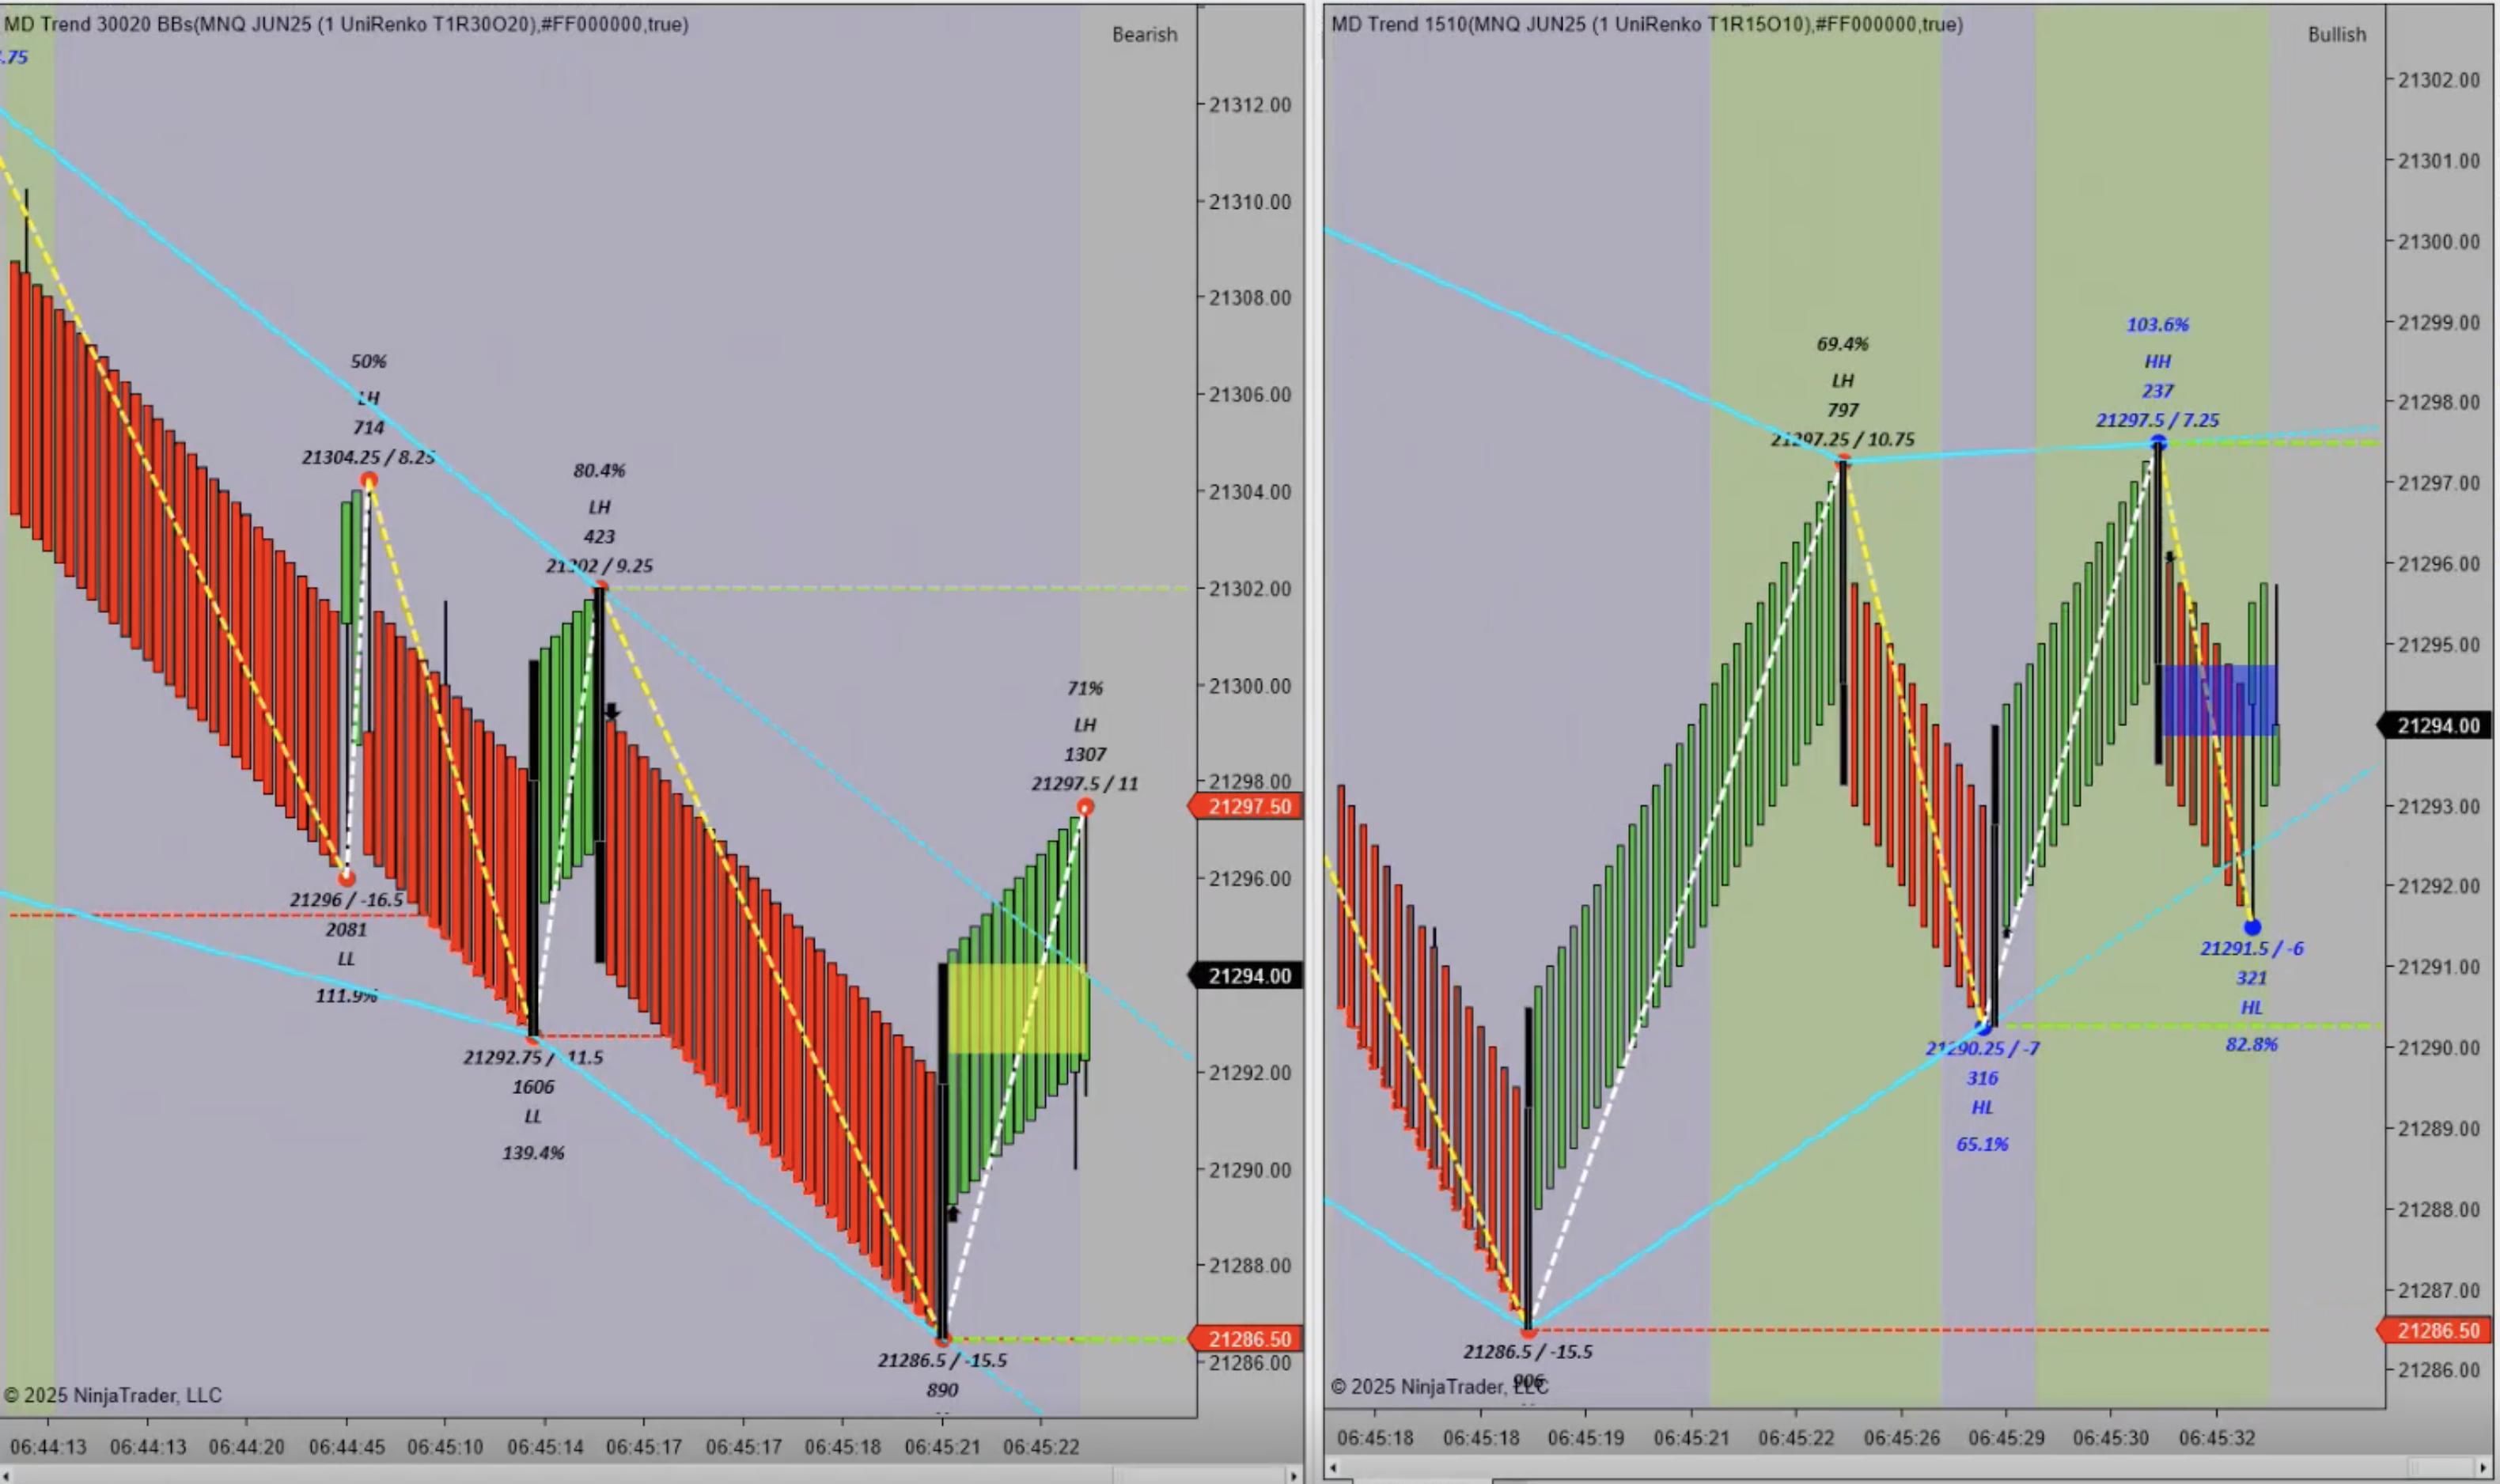candle: (933, 963, 958, 1346), (592, 585, 613, 979), (2150, 440, 2173, 776), (1519, 1007, 1541, 1329), (525, 659, 542, 1030), (1837, 459, 1852, 793), (1988, 723, 2002, 1032)
